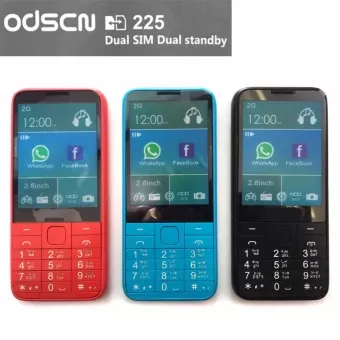Phone: (229, 84, 332, 302), (9, 87, 109, 303), (120, 86, 219, 302)
